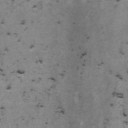oxide scale of temperature system: (0, 0, 128, 126), (72, 21, 77, 25), (58, 20, 61, 25), (116, 0, 120, 2)
